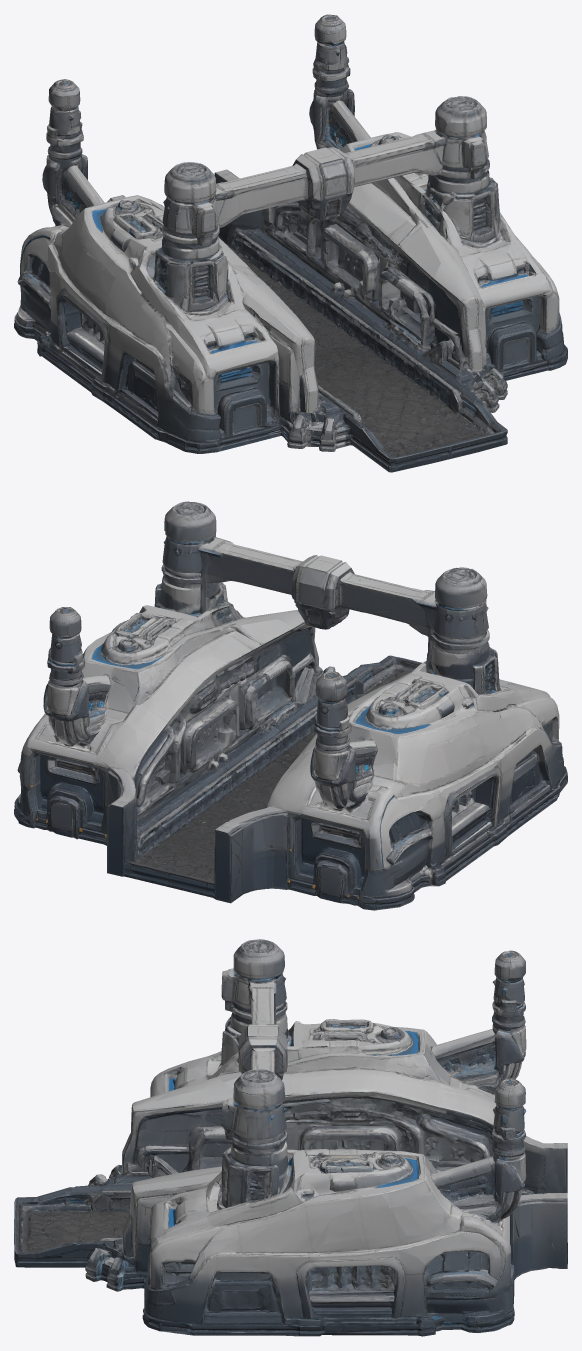
The model's file is naval-yard.glb.
3 renders of one model, top to bottom at view 1: azimuth 30°, elevation 25°; view 2: azimuth 150°, elevation 25°; view 3: azimuth 270°, elevation 25°, orthographic.
Parts seen in each view (by area): view 1: mesh_node; view 2: mesh_node; view 3: mesh_node.
Part boxes in pixels (<box>): mesh_node: <box>14,14,567,472</box>; mesh_node: <box>14,501,567,910</box>; mesh_node: <box>14,939,567,1336</box>.
Size of the model in its own units: 1.58 by 0.866 by 1.9.
Materials: 1 (1 with a texture image).
